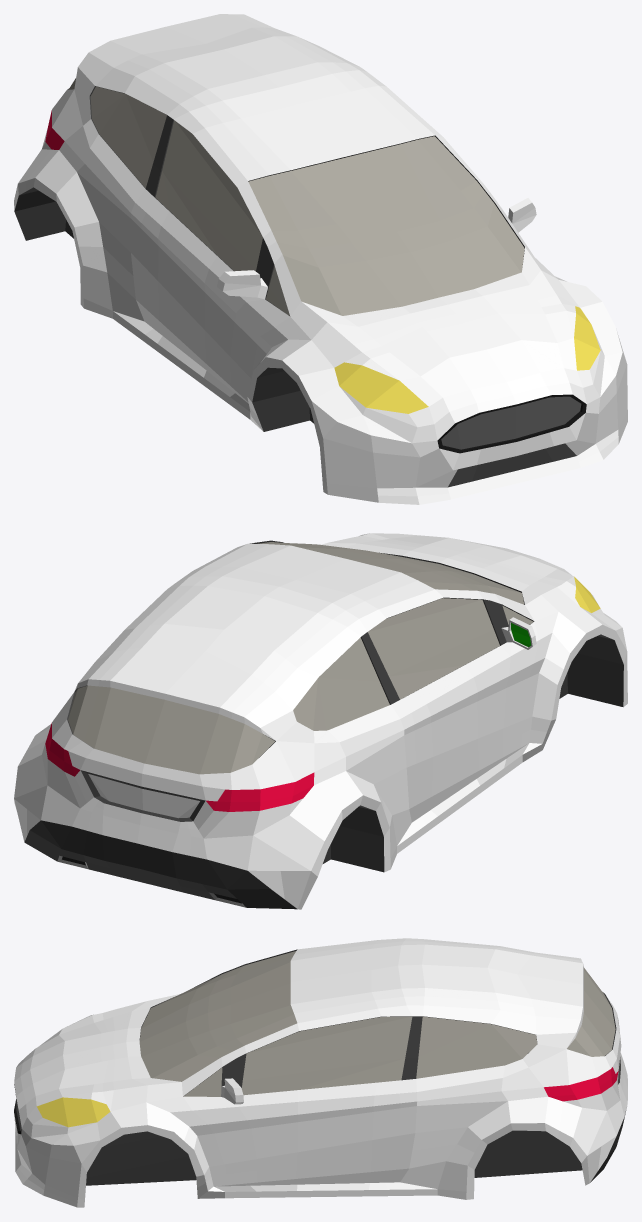
The model's file is Party.fbx.
3 renders of one model, top to bottom at view 1: azimuth 30°, elevation 25°; view 2: azimuth 150°, elevation 25°; view 3: azimuth 270°, elevation 25°, orthographic. The views are drawn at different scales.
Visible parts, largest first — view 1: RalliJr; view 2: RalliJr; view 3: RalliJr.
Boxes of the visible parts, x1,y1,x2,y2 form: RalliJr: [14, 14, 627, 504]; RalliJr: [14, 533, 627, 909]; RalliJr: [14, 938, 627, 1207].
Bounding box in the file's own units: 1.96 × 4.07 × 1.34.
